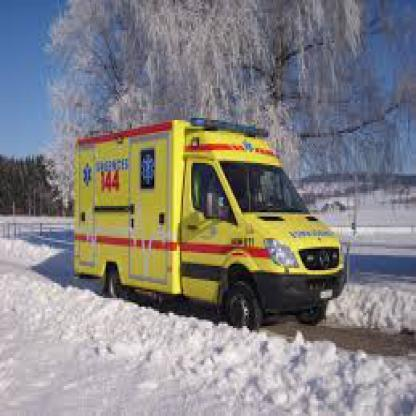Ambulance - v1 Ambulance last generate: (58, 123, 352, 333)
